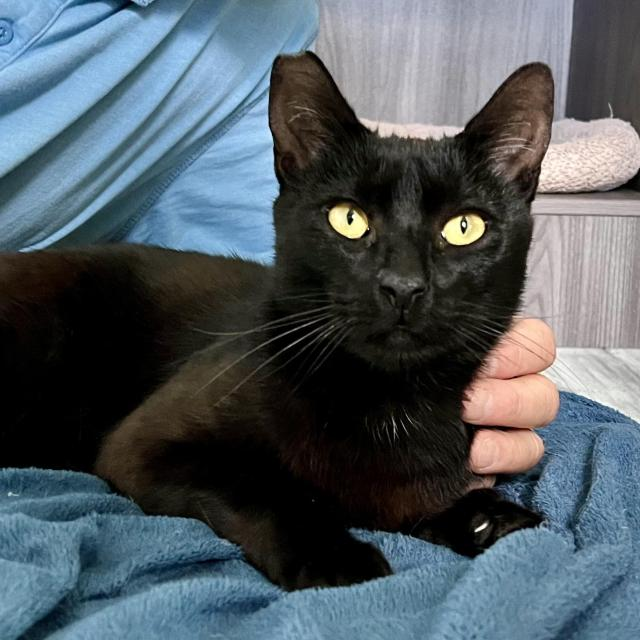bombay_cat: (244, 43, 561, 383)
